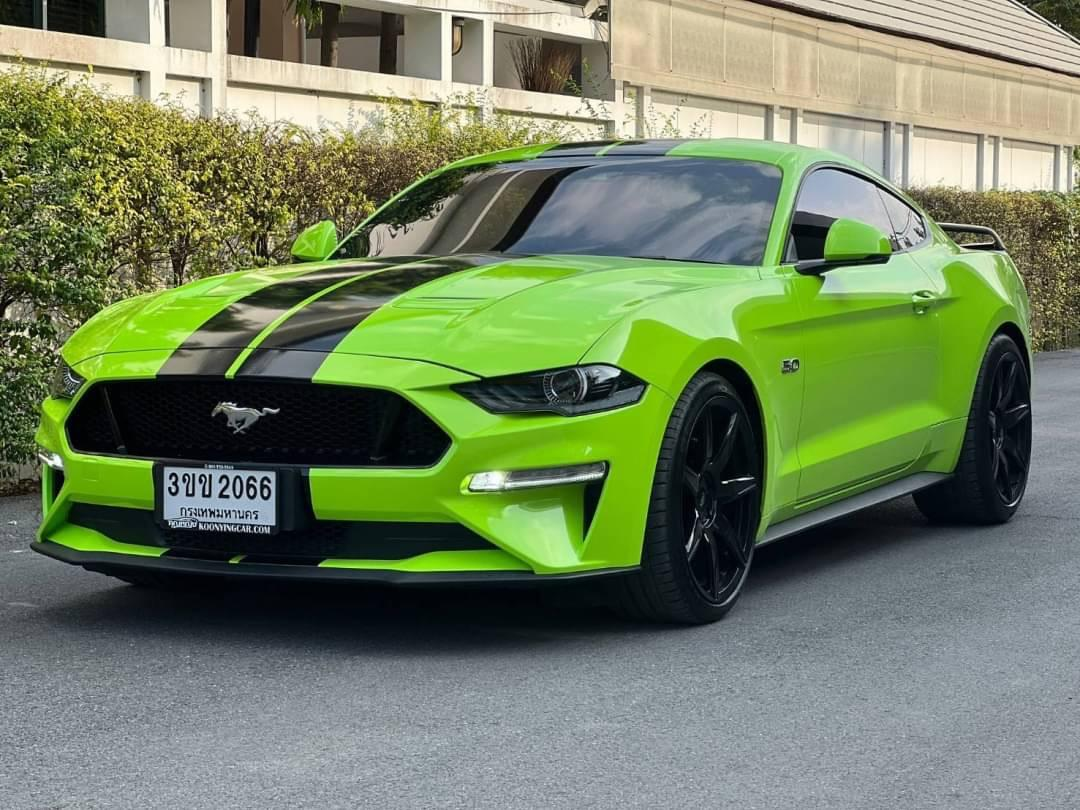license-plate: (156, 458, 290, 541)
